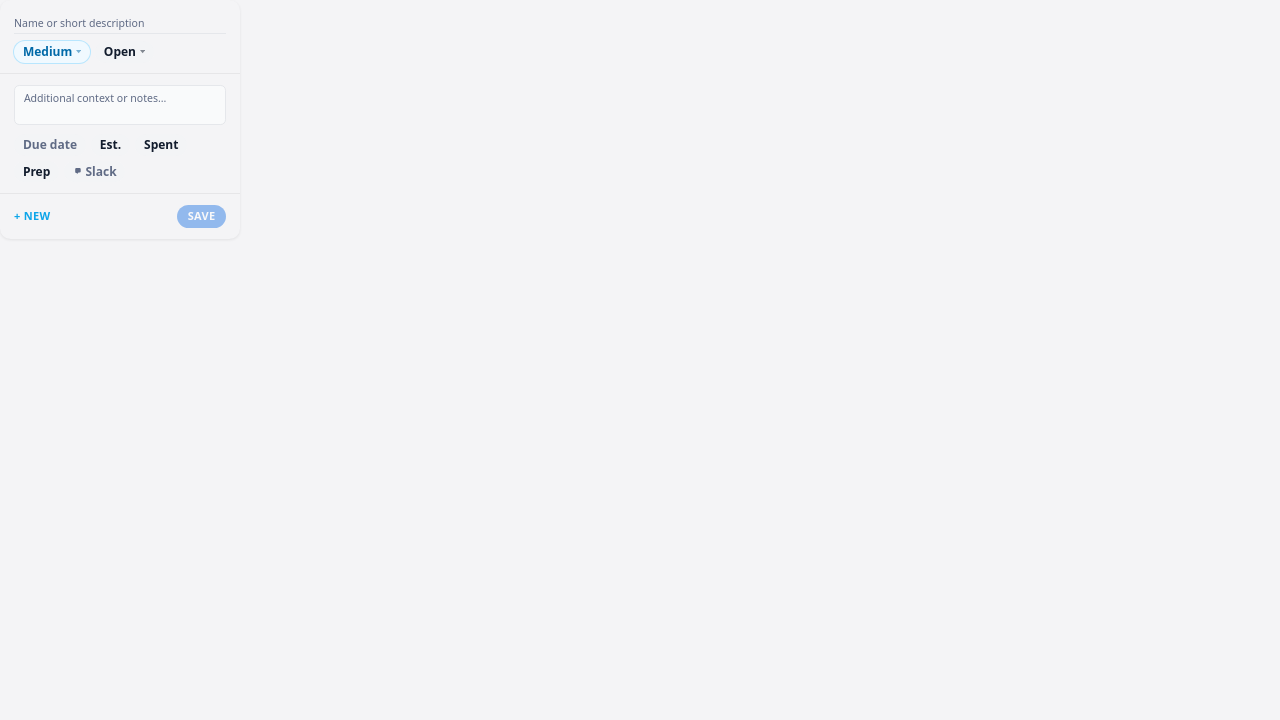
Test: NewActionItemCard › reports a failed create and keeps what was typed
Type "Mermaid Integration" into the field with placeholder "Name or short description".
click(120, 25); type("Mermaid Integration")  # box [14, 16, 226, 34]
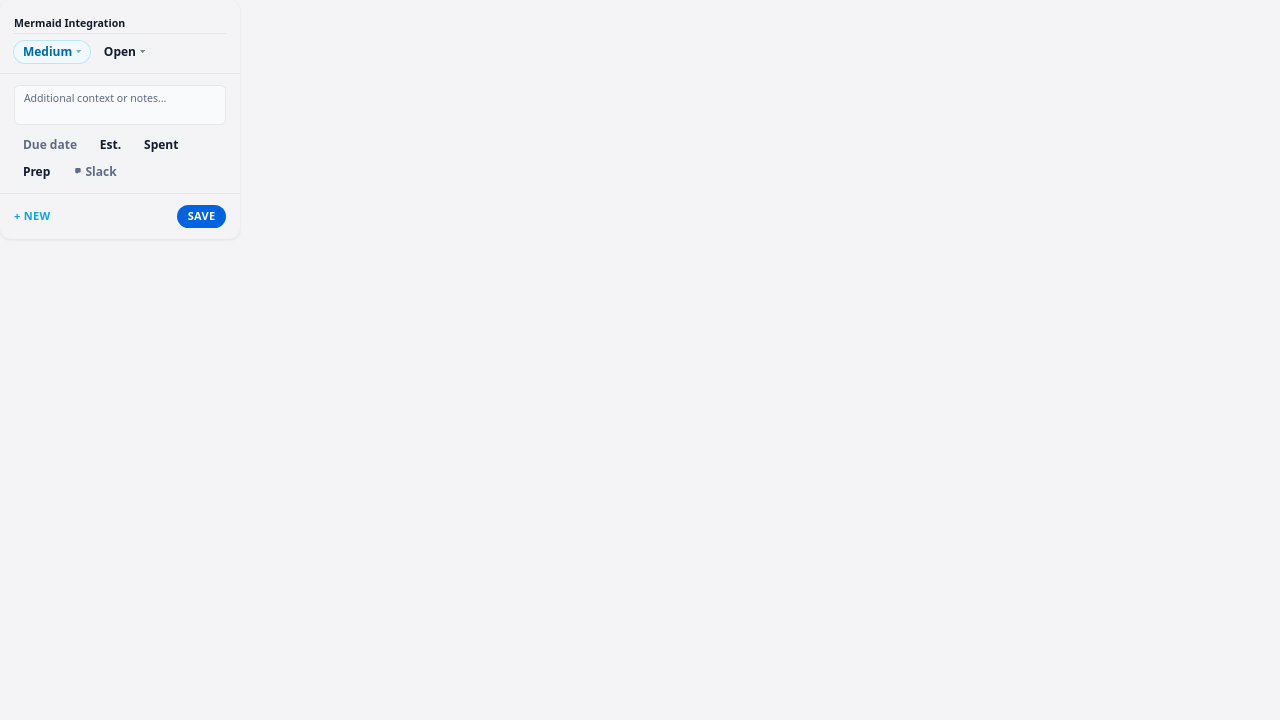
Click the button "Save".
click(202, 216)  # box [177, 205, 226, 228]
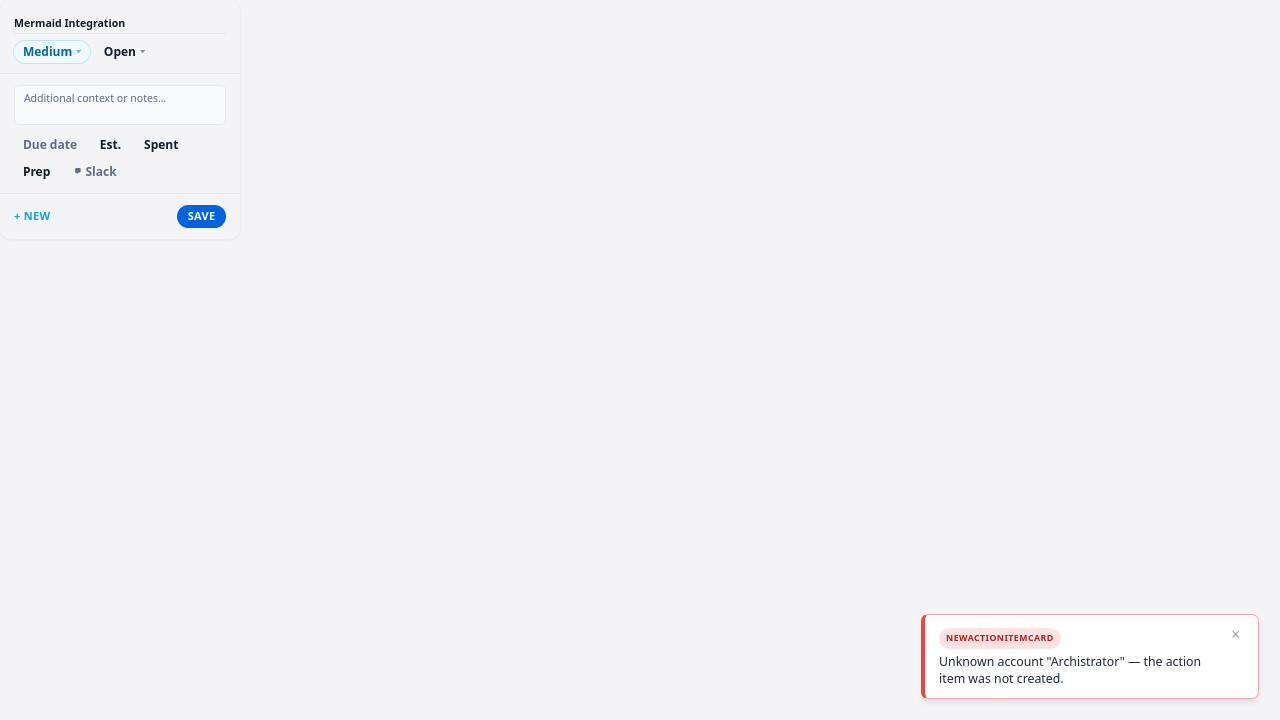
Now the text "Unknown account \"Archistrator\"" is shown, box [939, 653, 1201, 687]
